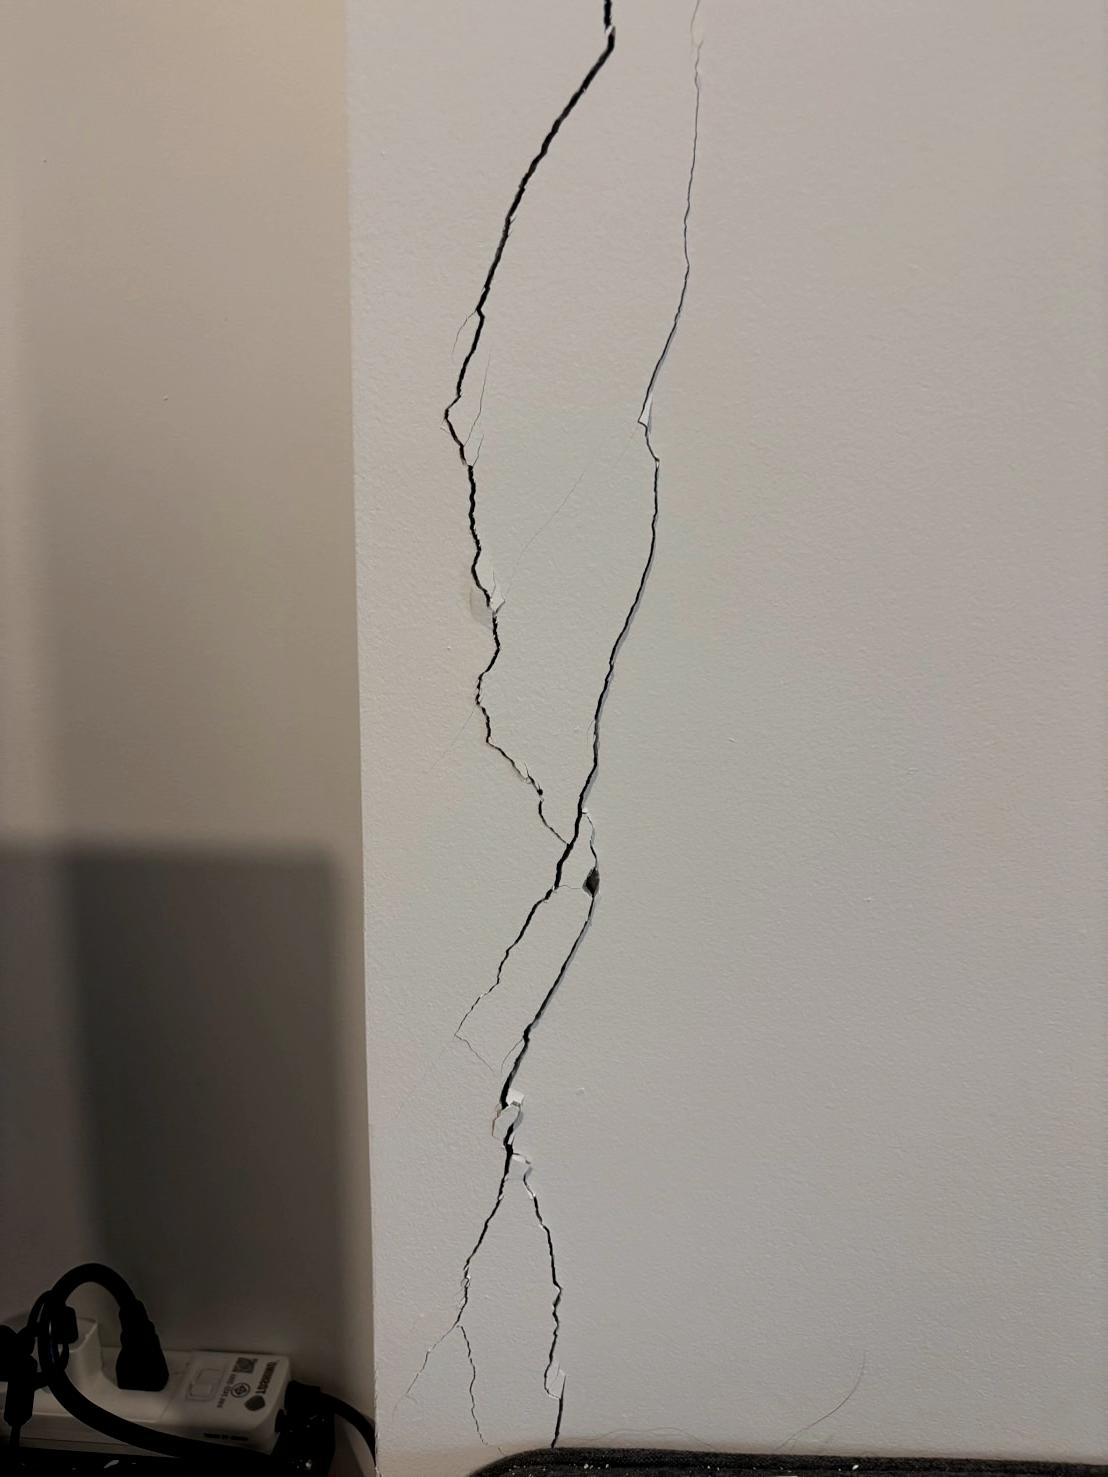High: (372, 1, 704, 1472)
